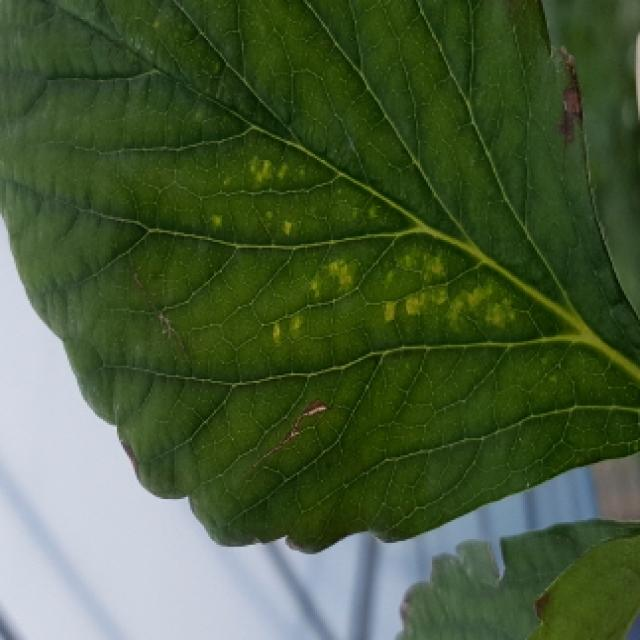Angular Leafspot: (198, 139, 542, 353)
